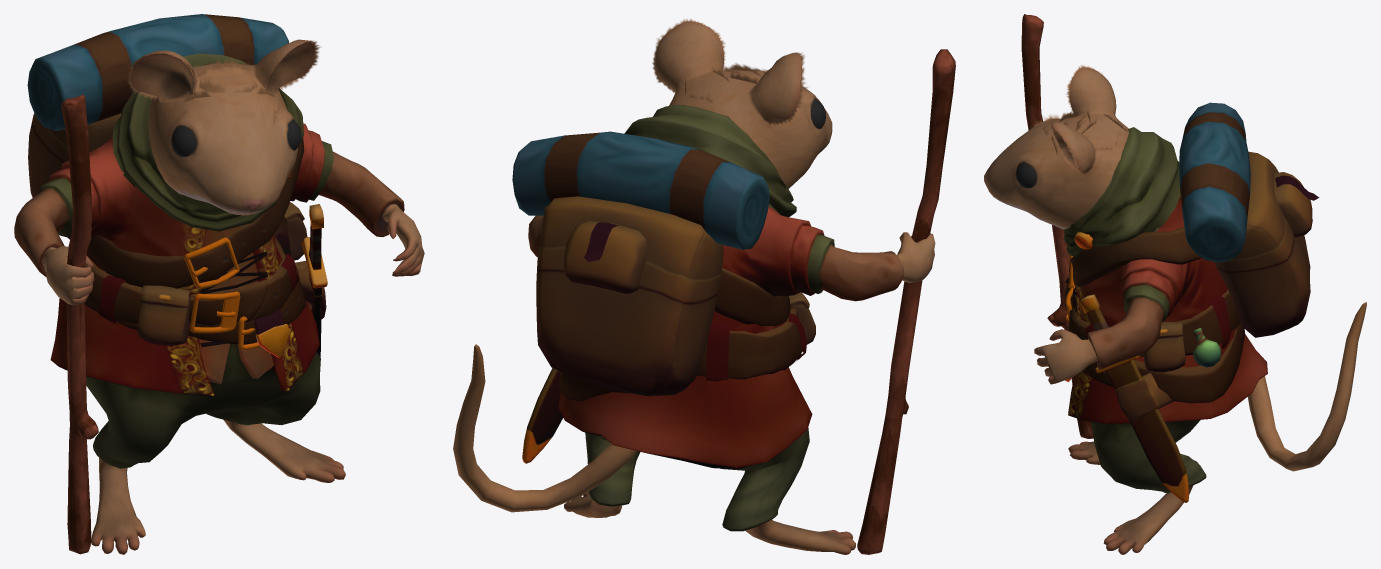
Rendered from mouse.glb.
3 views of the same model, side by side, from view 1: azimuth 30°, elevation 25°; view 2: azimuth 150°, elevation 25°; view 3: azimuth 270°, elevation 25° (orthographic). The views are drawn at different scales.
Parts seen in each view (by area): view 1: polySurface7, Stick; view 2: polySurface7, Stick; view 3: polySurface7, Stick.
Boxes of the visible parts, <box> form: polySurface7: <box>14,14,424,554</box>; Stick: <box>61,94,98,554</box>; polySurface7: <box>453,19,935,554</box>; Stick: <box>857,49,955,554</box>; polySurface7: <box>984,65,1366,554</box>; Stick: <box>1021,14,1093,438</box>.
Size of the model in its own units: 2.73 by 3.42 by 2.88.
Materials: 1 (1 with a texture image).
